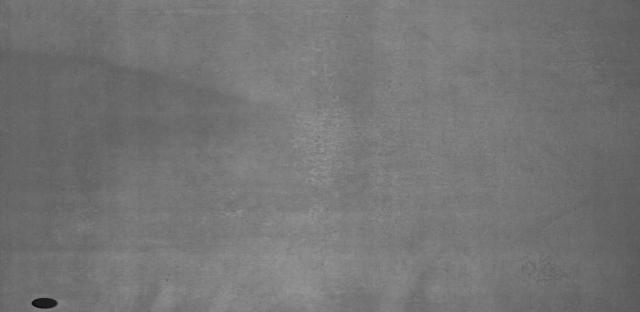punching_hole: (27, 294, 62, 312)
